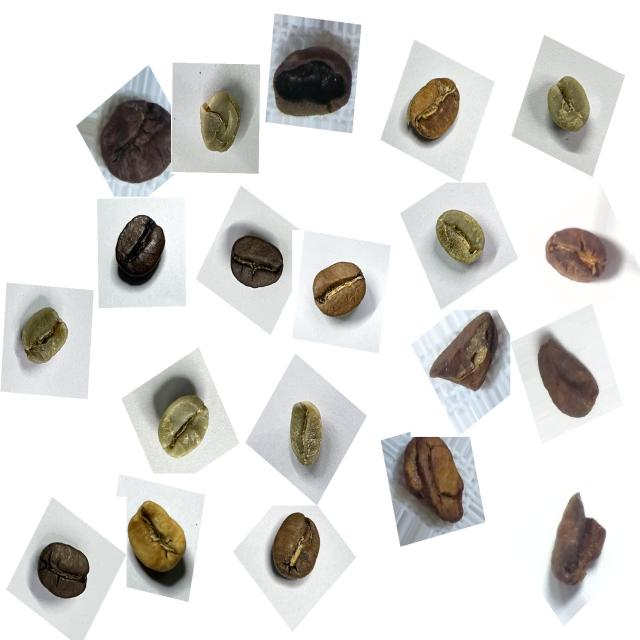bad: (90, 82, 186, 196), (266, 23, 361, 131), (387, 425, 474, 536), (528, 327, 606, 430), (543, 489, 614, 600), (428, 307, 508, 403), (539, 214, 622, 297)
dark: (100, 200, 178, 297), (224, 225, 294, 304)
green: (146, 374, 222, 473), (185, 77, 250, 171), (420, 199, 494, 278), (275, 390, 338, 480), (11, 296, 80, 376), (534, 65, 601, 146)
light: (113, 490, 198, 598), (398, 65, 474, 158)
medium: (260, 504, 336, 596), (304, 246, 378, 332), (31, 532, 100, 613)
